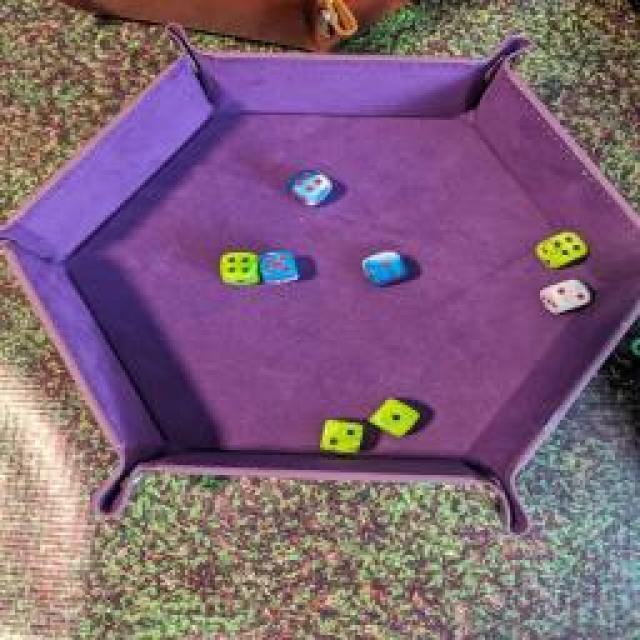dice_1: (368, 395, 422, 440), (352, 248, 410, 288)
dice_2: (312, 414, 370, 456), (535, 277, 597, 315)
dice_4: (526, 229, 589, 271), (285, 165, 333, 210), (215, 248, 265, 282)
dice_5: (256, 247, 304, 285)
